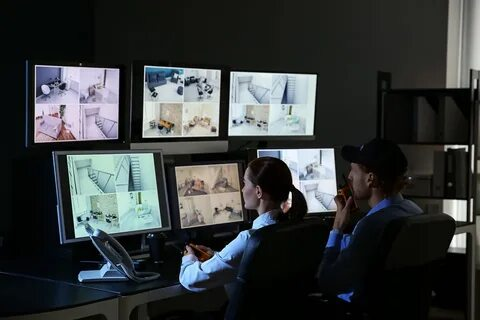awake: (315, 137, 424, 302), (177, 156, 308, 293)
